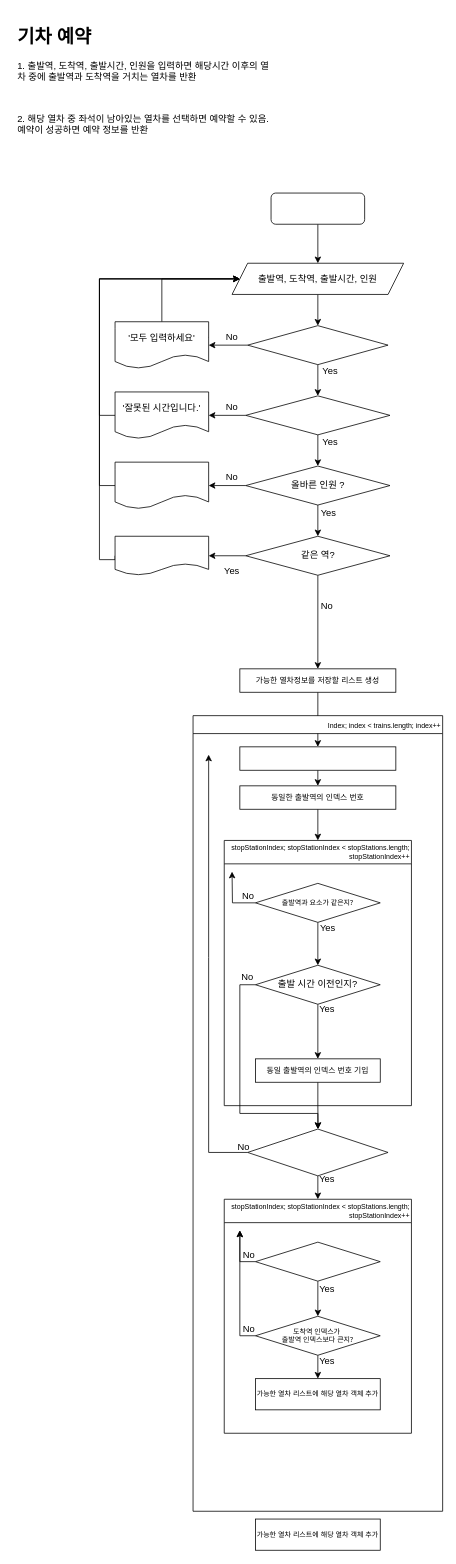
Some shapes in this 456 by 1564 pixel diagram are drawn without their labels. The shapes that lost their labels are listed below. From the top down, each one's centre as x and y in pixels, then its label:
At pixel 317 208: "시작".
At pixel 317 345: "모두 입력 ?".
At pixel 317 415: "올바른 시간 ?".
At pixel 161 485: "'잘못된 인원입니다.'".
At pixel 161 555: "'출발역과 도착역이 같습니다.'".
At pixel 317 758: "해당 인덱스 요소의 정착역 리스트 가져오기".
At pixel 317 1152: "동일한 출발역이 저장됐는지?".
At pixel 317 1261: "도착역과 요소가 같은지?".
